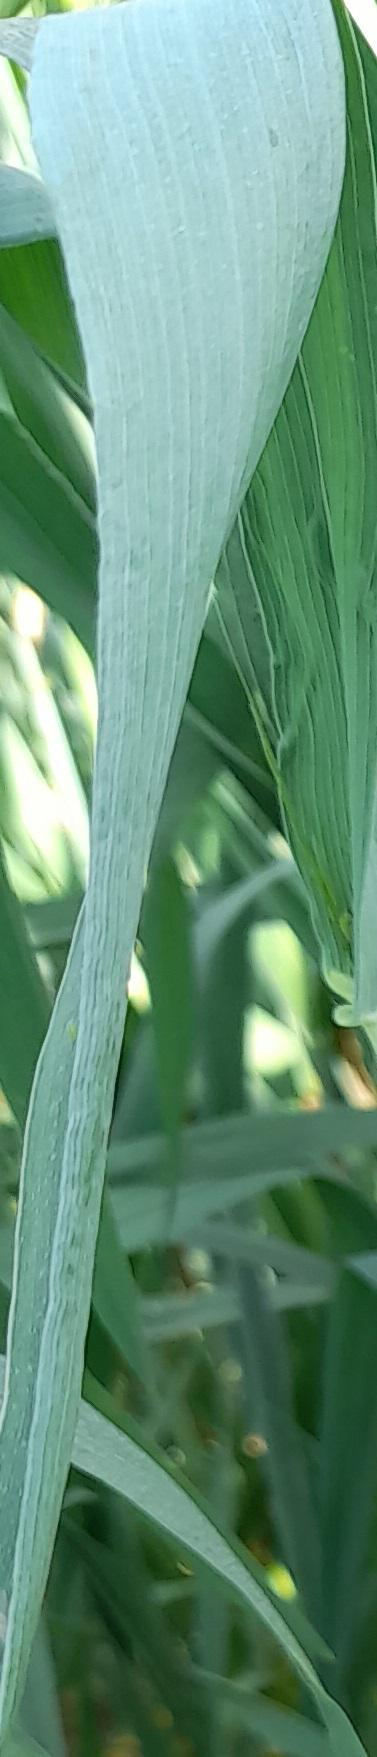Wheat: (70, 43, 365, 631)
